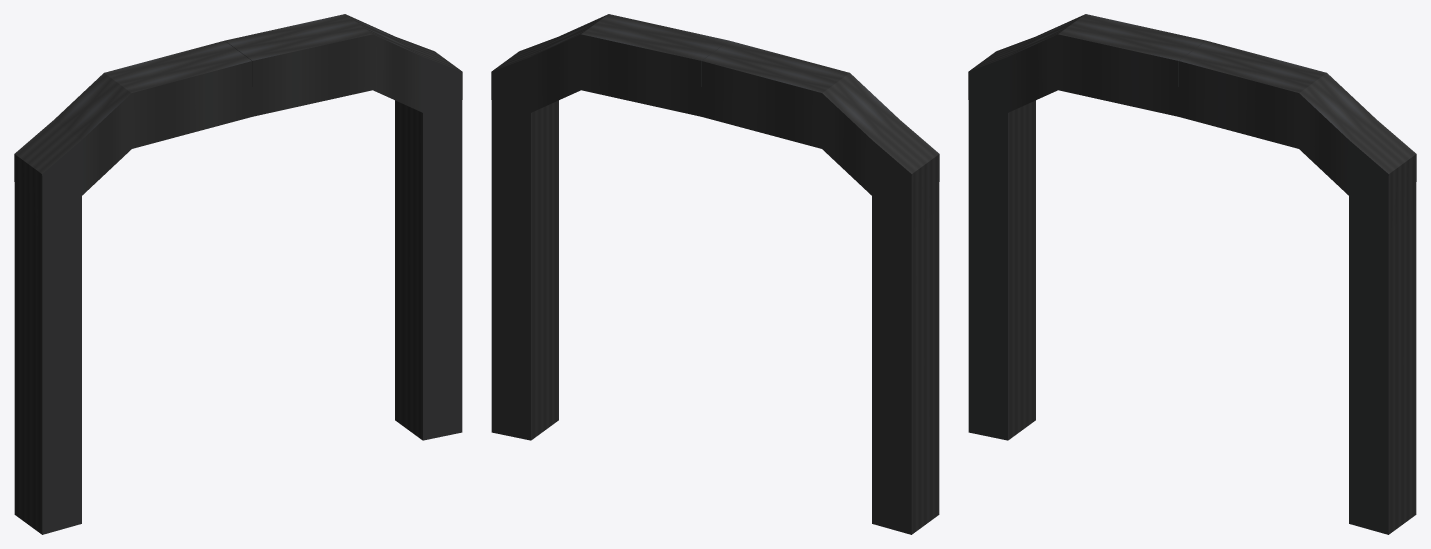
File: marco exterior.fbx
3 views of the same model, side by side, from view 1: azimuth 30°, elevation 25°; view 2: azimuth 150°, elevation 25°; view 3: azimuth 330°, elevation 25° (orthographic).
Visible parts, largest first — view 1: Marco exterior; view 2: Marco exterior; view 3: Marco exterior.
Part boxes in pixels (x1=…): Marco exterior: x1=14, y1=14, x2=462, y2=534; Marco exterior: x1=491, y1=14, x2=939, y2=534; Marco exterior: x1=968, y1=14, x2=1416, y2=534.
Bounding box in the file's own units: 605 × 581 × 69.19.
Materials: 1 (1 with a texture image).
